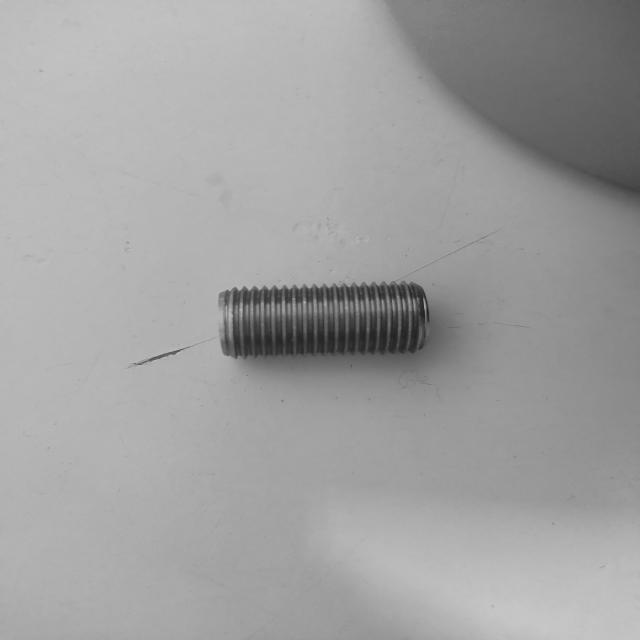Normal: (214, 278, 430, 360)
